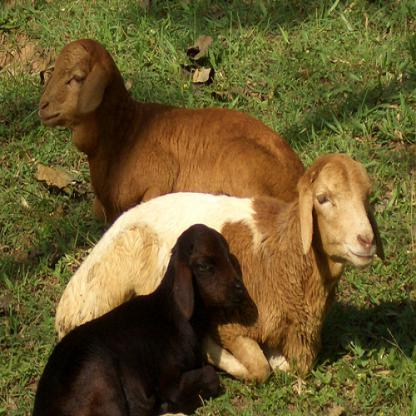sheep: (54, 152, 386, 384), (39, 38, 305, 225), (32, 223, 246, 415)
